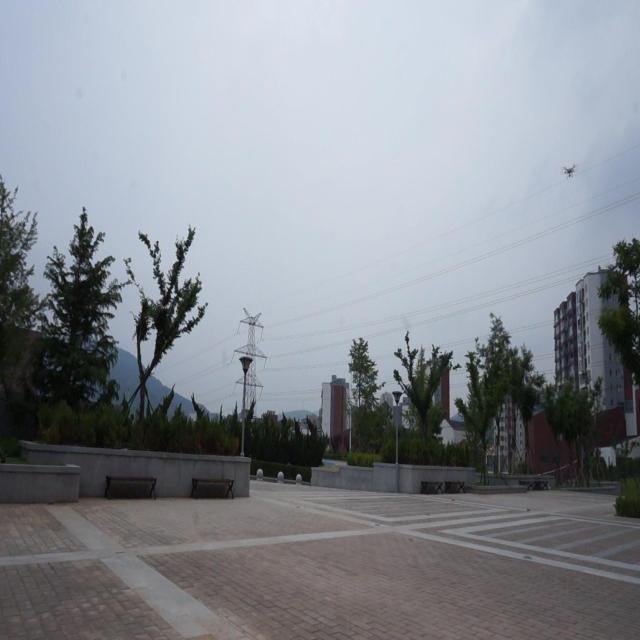drone: (561, 162, 577, 180)
